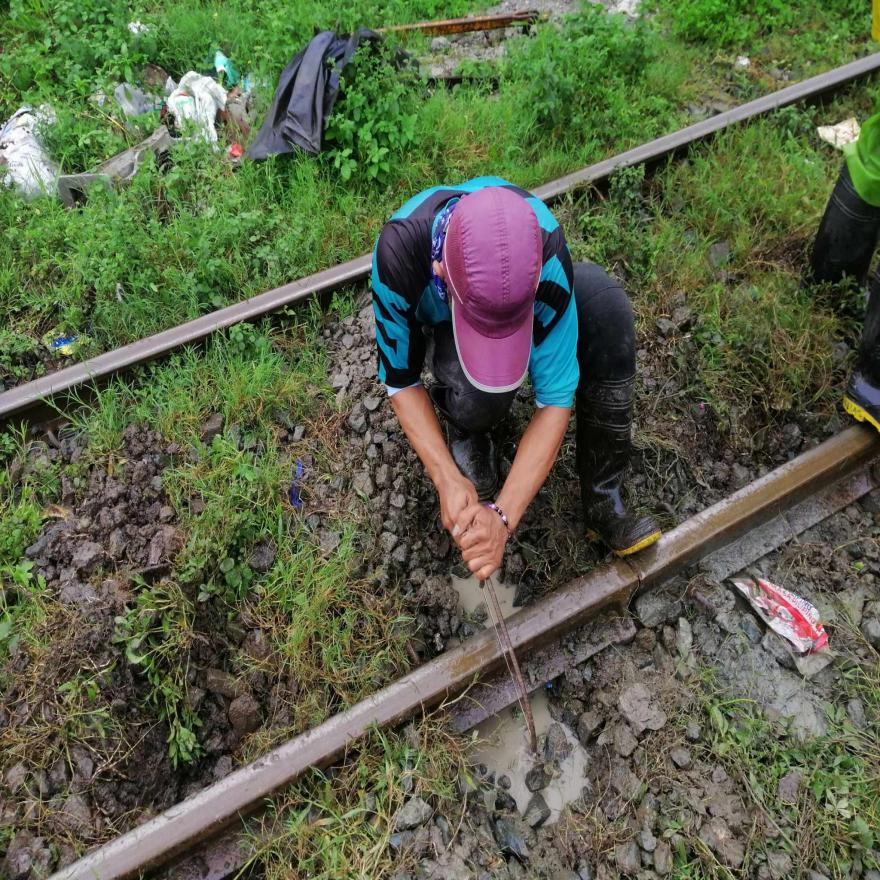railway-gap: (599, 550, 667, 634)
